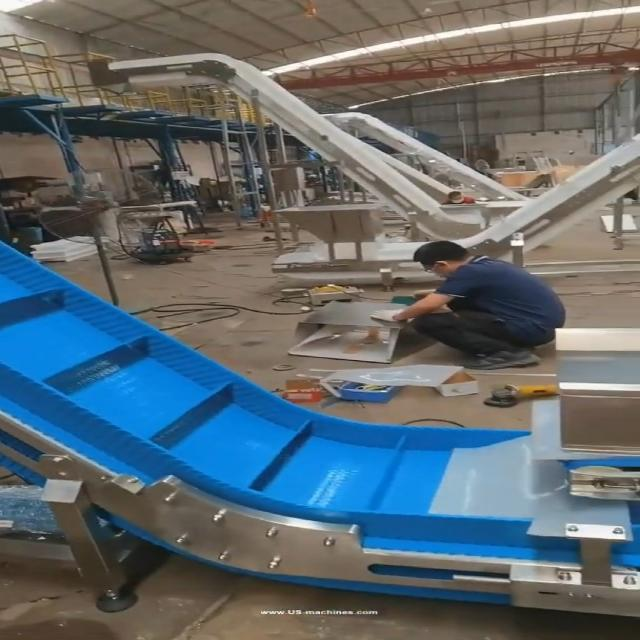Convoyeur: (0, 241, 640, 624)
